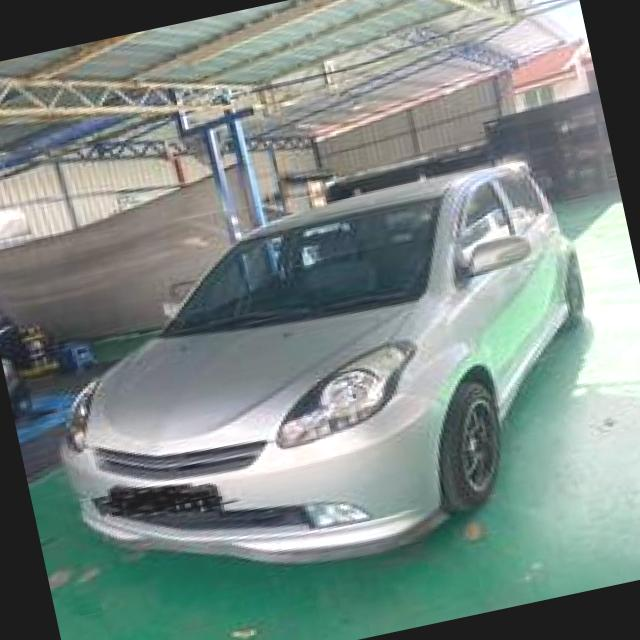PeroduaMyvi: (15, 144, 632, 615)
